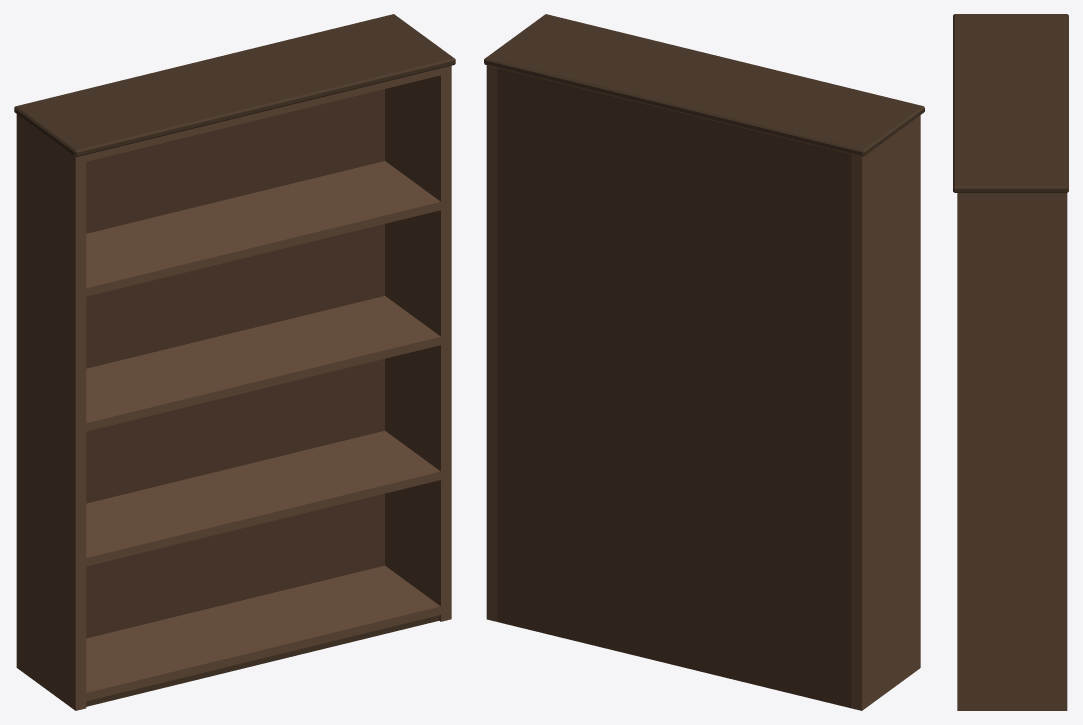
File: bibliotheque.glb
3 renders of one model, left to right at view 1: azimuth 30°, elevation 25°; view 2: azimuth 150°, elevation 25°; view 3: azimuth 270°, elevation 25°, orthographic. The views are drawn at different scales.
Visible parts, largest first — view 1: shelves, back, side_l, side_r, top, plinth; view 2: back, side_l, top, side_r; view 3: side_r, top.
Part boxes in pixels (x1,y1,x2,y2): shelves: (86,68,440,701); back: (86,89,384,638); side_l: (16,114,86,710); side_r: (385,65,451,621); top: (14,14,455,157); plinth: (86,615,439,706); back: (497,68,851,708); side_l: (851,115,920,710); top: (484,14,924,156); side_r: (486,65,497,621); side_r: (957,193,1067,710); top: (953,14,1068,192).
Bounding box in the file's own units: 1.42 × 2 × 0.4.
Materials: 3 (3 with a texture image).
